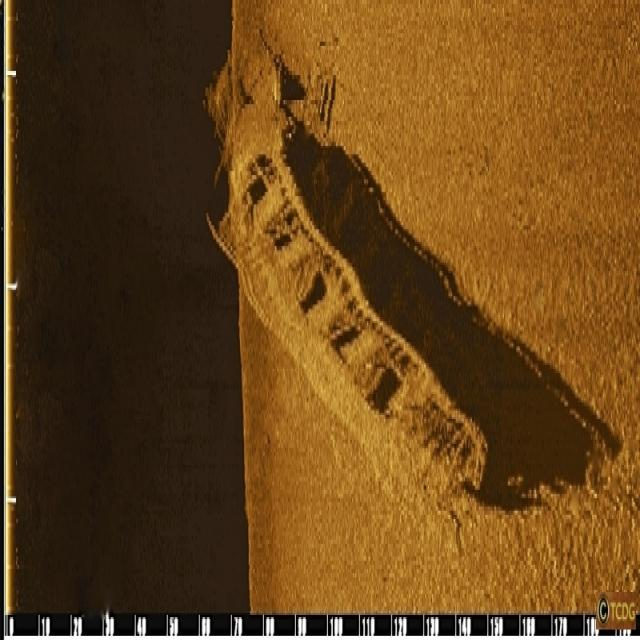ship: (198, 104, 491, 505)
